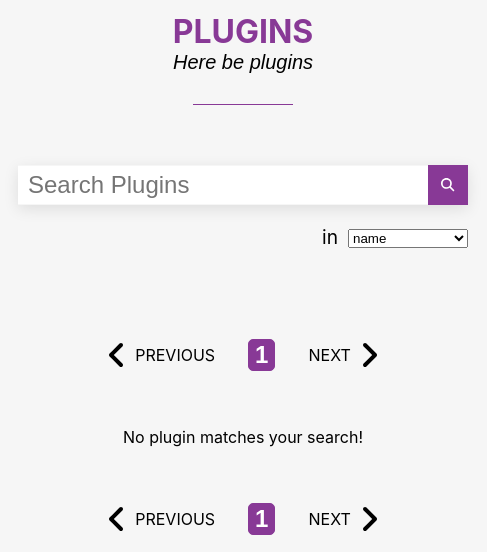
Scenario: PluginsPage › shows an error message in place of the grid when the network fails
Type "Gx" into the field. click: [223, 185]
box: [18,166,428,204]
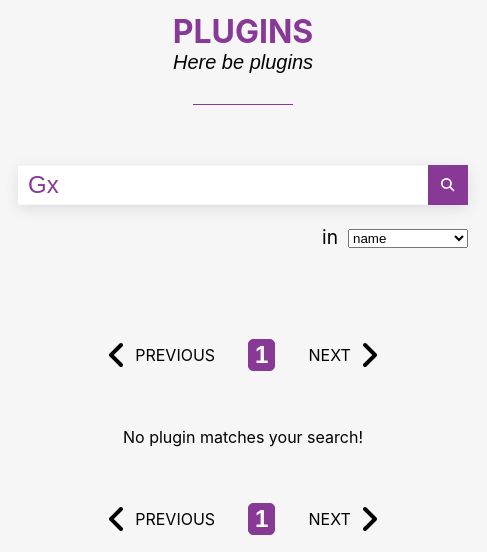
Submit the form, box [18,165,468,259]
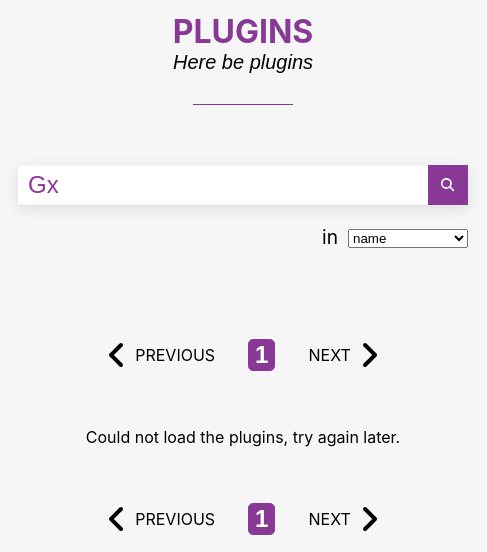
Check: the message reads "Could not load the plugins, try again later.", box [86,427,400,447]
